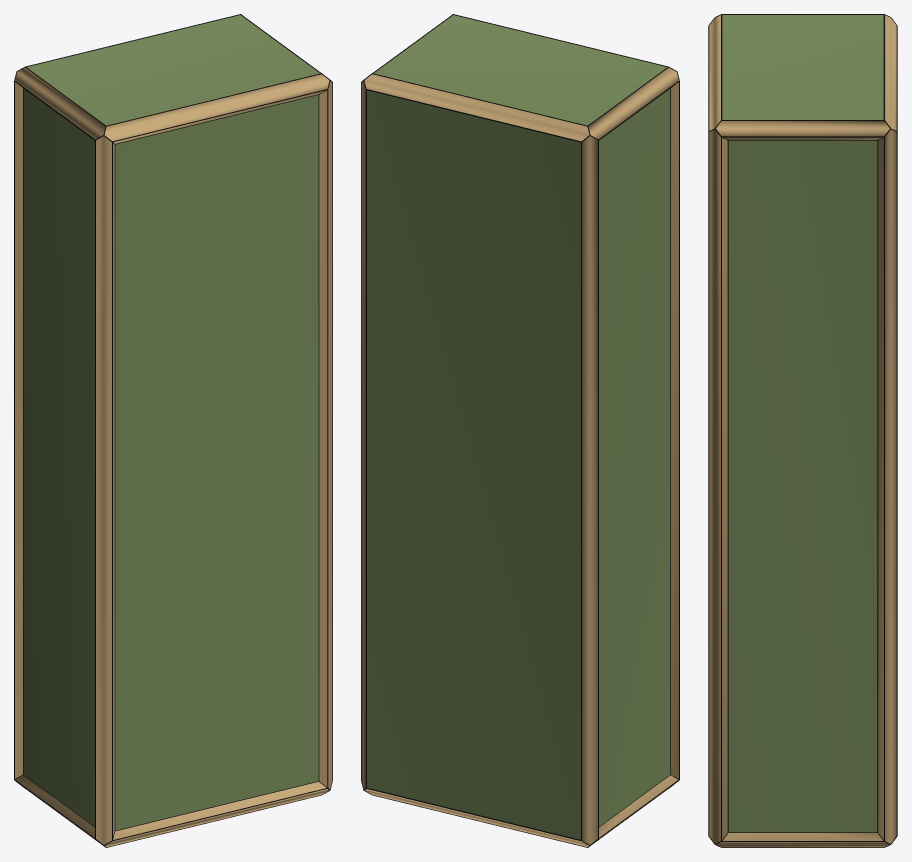
The model's file is dressing-600.glb.
3 views of the same model, side by side, from view 1: azimuth 30°, elevation 25°; view 2: azimuth 150°, elevation 25°; view 3: azimuth 270°, elevation 25° (orthographic).
Visible parts, largest first — view 1: panneau-fond, panneau-joue1, panneau-dessus_exterieur, arete-Z0, arete-Z1, arete-Z2, arete-X2, panneau-wire-fond, arete-X0, arete-wire-Z1, arete-Y2, arete-wire-Z0 (+5 smaller); view 2: panneau-porte, panneau-joue1, panneau-dessus_exterieur, arete-Z2, arete-Z0, arete-X3, arete-Z3, arete-wire-Z3, panneau-wire-porte, arete-Y2, arete-wire-Z2, arete-X1 (+4 smaller); view 3: panneau-joue2, panneau-dessus_exterieur, arete-Z1, arete-Z3, arete-Y3, panneau-wire-joue2, arete-Y1, arete-wire-Z1, arete-wire-Z3, arete-X2, arete-X3, panneau-wire-dessus_exterieur (+1 smaller).
Part boxes in pixels (x1,y1,x2,y2): panneau-fond: [115, 95, 318, 830]; panneau-joue1: [23, 89, 94, 826]; panneau-dessus_exterieur: [26, 15, 319, 125]; arete-Z0: [96, 136, 114, 844]; arete-Z1: [319, 81, 332, 789]; arete-Z2: [15, 82, 22, 778]; arete-X2: [104, 74, 329, 143]; panneau-wire-fond: [114, 94, 319, 831]; arete-X0: [105, 781, 328, 847]; arete-wire-Z1: [327, 80, 332, 787]; arete-Y2: [15, 67, 105, 139]; arete-wire-Z0: [95, 135, 114, 840]; panneau-porte: [367, 90, 580, 839]; panneau-joue1: [599, 89, 670, 826]; panneau-dessus_exterieur: [374, 15, 667, 125]; arete-Z2: [582, 136, 597, 844]; arete-Z0: [671, 82, 678, 778]; arete-X3: [364, 74, 589, 141]; arete-Z3: [361, 81, 365, 789]; arete-wire-Z3: [361, 82, 366, 787]; panneau-wire-porte: [366, 90, 581, 840]; arete-Y2: [588, 67, 678, 139]; arete-wire-Z2: [581, 135, 598, 840]; arete-X1: [365, 789, 588, 847]; panneau-joue2: [728, 140, 877, 832]; panneau-dessus_exterieur: [722, 15, 883, 119]; arete-Z1: [709, 129, 727, 843]; arete-Z3: [878, 129, 896, 843]; arete-Y3: [716, 121, 889, 139]; panneau-wire-joue2: [727, 140, 878, 832]; arete-Y1: [716, 833, 889, 847]; arete-wire-Z1: [708, 128, 727, 841]; arete-wire-Z3: [884, 132, 897, 841]; arete-X2: [709, 15, 720, 130]; arete-X3: [885, 15, 896, 130]; panneau-wire-dessus_exterieur: [721, 14, 884, 119].
Bounding box in the file's own units: 0.6309 × 1.83 × 0.4309.
